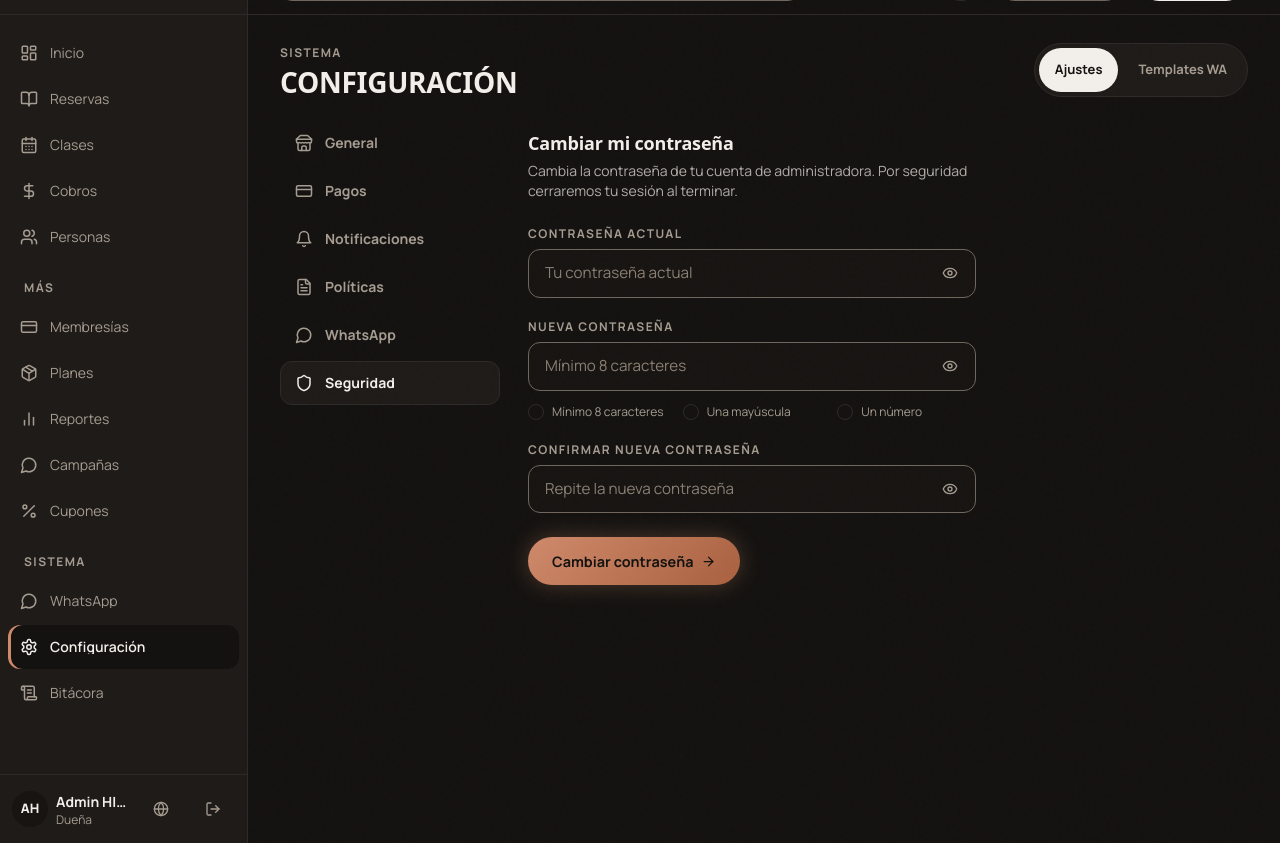
Configuración › ?tab= abre la sección y cambiar de sección cambia la URL
The width and height of the screenshot is (1280, 843).
Press the mouse on the tab "Pagos" at (390, 191), box top-left (280, 169), bottom-right (500, 213)
(page scrolled)
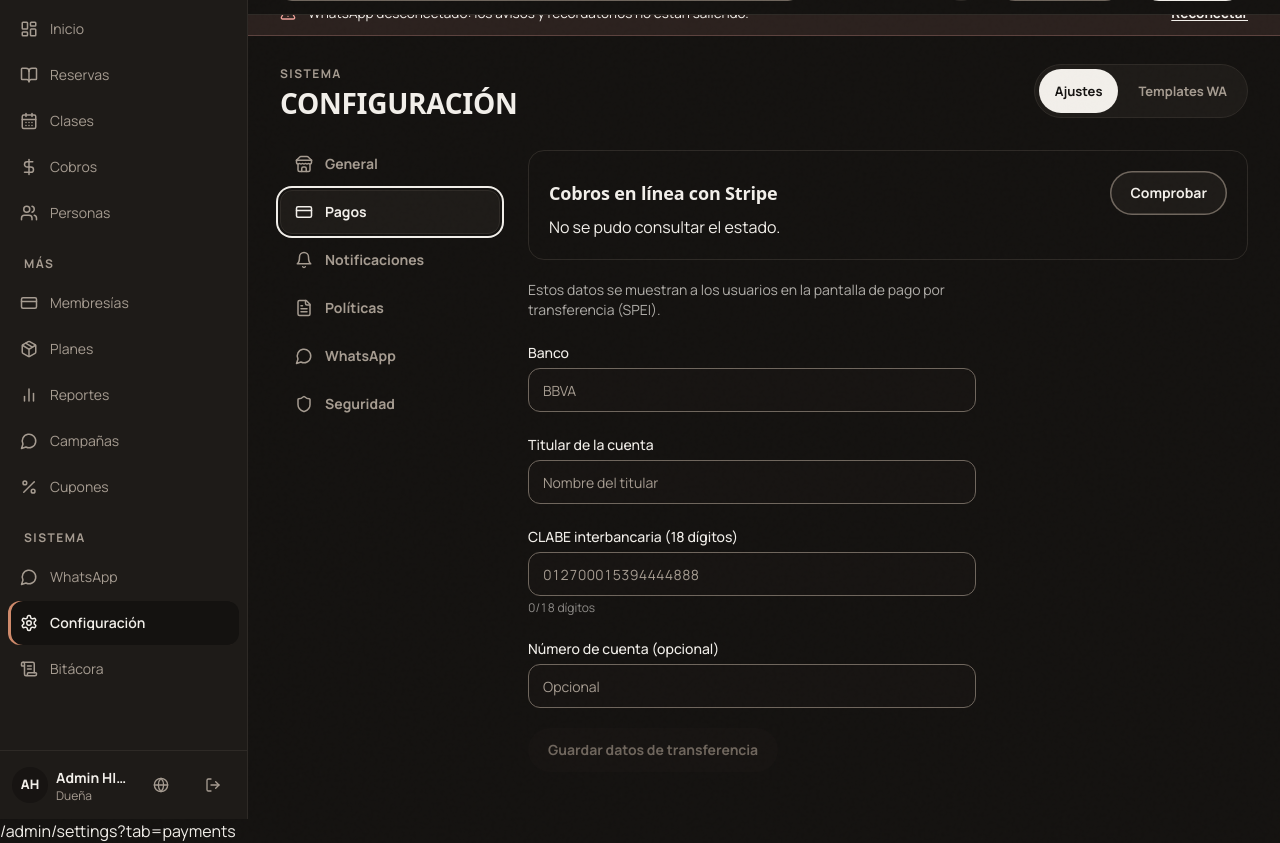
Expected: the text with test id "location" reads "/admin/settings?tab=payments", top-left (0, 820), bottom-right (236, 842)
